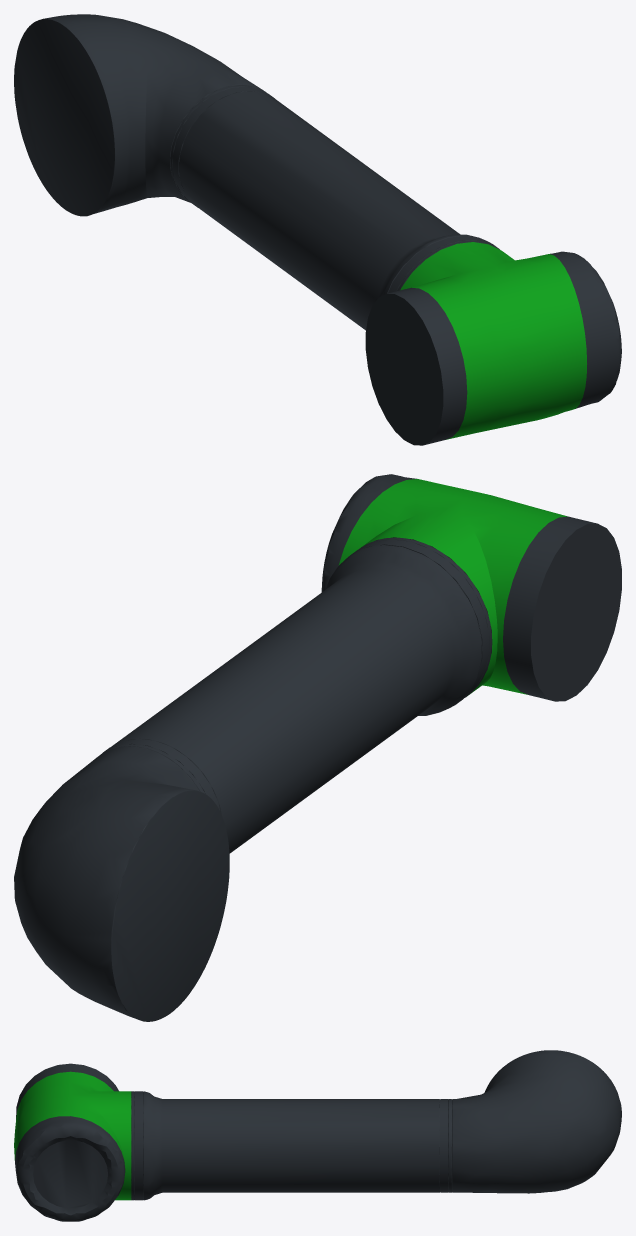
The picture shows the model from 3 angles, top to bottom: view 1: azimuth 30°, elevation 25°; view 2: azimuth 150°, elevation 25°; view 3: azimuth 270°, elevation 25°; orthographic projection. The views are drawn at different scales.
Visible parts, largest first — view 1: Link_3; view 2: Link_3; view 3: Link_3.
Part boxes in pixels (bbox=[...]): Link_3: bbox=[14, 14, 621, 445]; Link_3: bbox=[14, 474, 621, 1021]; Link_3: bbox=[14, 1050, 621, 1221].
Bounding box in the file's own units: 0.1235 × 0.1179 × 0.5062.
